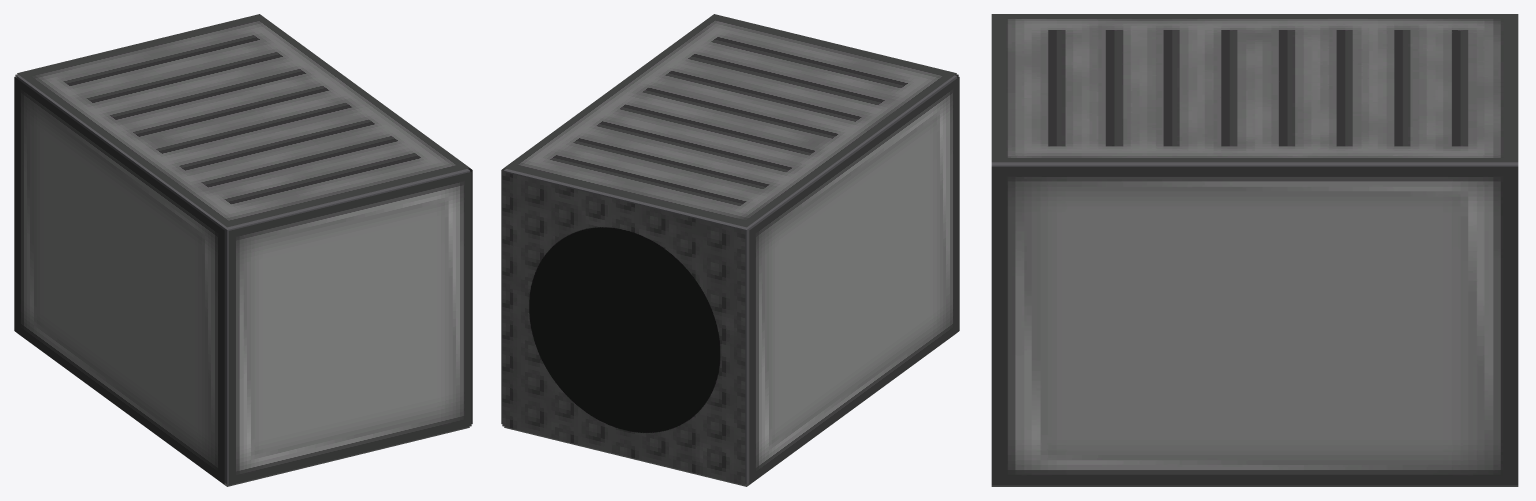
Rendered from fluidprojector.obj.
The picture shows the model from 3 angles, left to right: view 1: azimuth 30°, elevation 25°; view 2: azimuth 150°, elevation 25°; view 3: azimuth 270°, elevation 25°; orthographic projection. The views are drawn at different scales.
Parts seen in each view (by area): view 1: Fluidprojector7, Fluidprojector3, Fluidprojector5, Fluidprojector1, Fluidprojector4, Fluidprojector2; view 2: Fluidprojector8, Fluidprojector3, Fluidprojector5, Fluidprojector1, Fluidprojector4, Fluidprojector2; view 3: Fluidprojector2, Fluidprojector5, Fluidprojector1, Fluidprojector4.
Part boxes in pixels (box(x1,y1,x2,y2)): Fluidprojector7: box(228, 172, 471, 485); Fluidprojector3: box(14, 77, 224, 484); Fluidprojector5: box(17, 14, 469, 227); Fluidprojector1: box(16, 75, 470, 484); Fluidprojector4: box(21, 336, 469, 486); Fluidprojector2: box(468, 168, 472, 423); Fluidprojector8: box(502, 172, 745, 485); Fluidprojector3: box(749, 77, 959, 484); Fluidprojector5: box(504, 14, 956, 227); Fluidprojector1: box(503, 75, 957, 484); Fluidprojector4: box(504, 336, 952, 486); Fluidprojector2: box(501, 168, 505, 423); Fluidprojector2: box(991, 167, 1518, 485); Fluidprojector5: box(991, 14, 1518, 162); Fluidprojector1: box(991, 162, 1518, 166); Fluidprojector4: box(991, 485, 1518, 486).
Size of the model in its own units: 2.04 by 2.04 by 3.04.
Materials: 5 (4 with a texture image).
